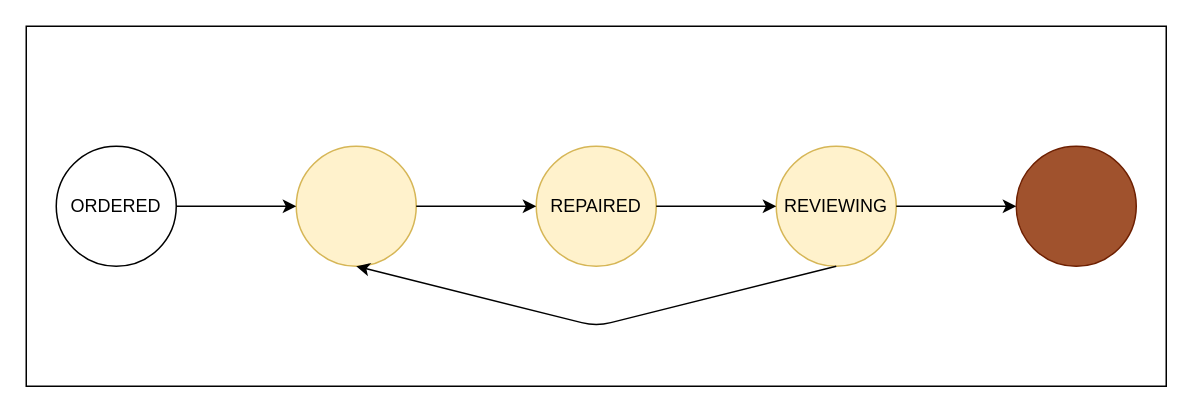
Image size: 1193x413. Some labels were removed from this diagram. Each missing label, with the centre of its shape:
DONE: the point at 1075,205
REPAIRING: the point at 355,205
